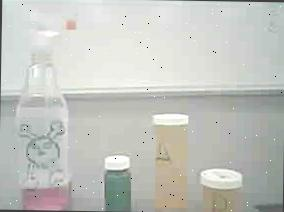Bottle A: (143, 106, 196, 212)
Bottle B: (196, 163, 247, 212)
Bottle C: (95, 148, 139, 212)
hazard: (6, 9, 84, 211)
